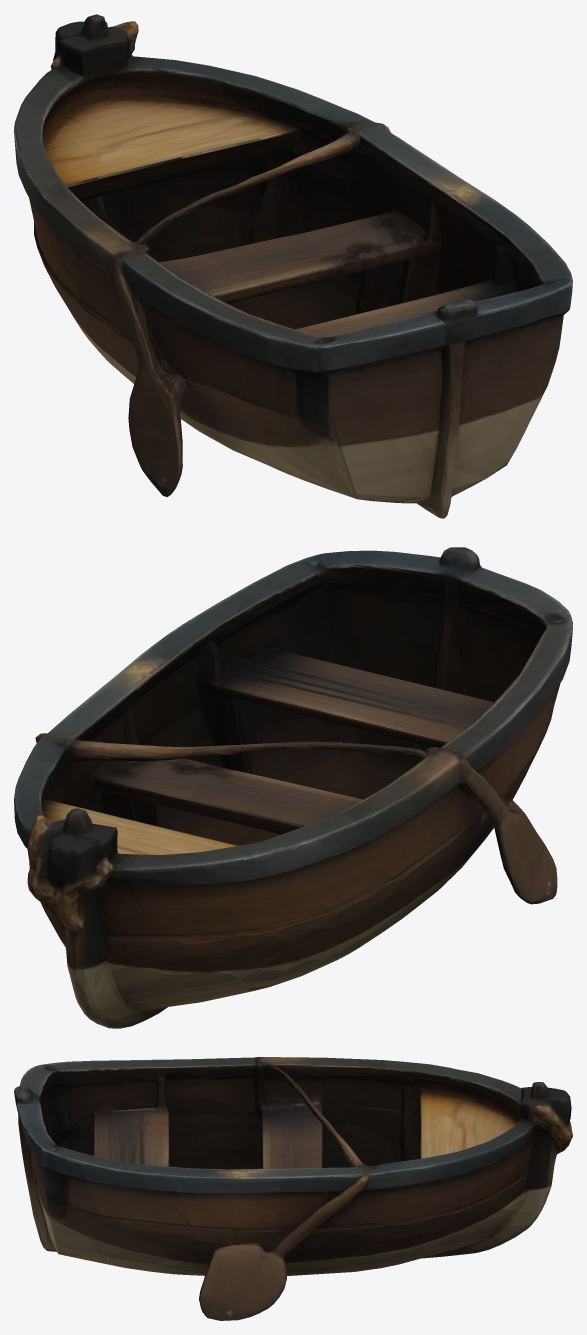
3 views of the same model, one above another, from view 1: azimuth 30°, elevation 25°; view 2: azimuth 150°, elevation 25°; view 3: azimuth 270°, elevation 25° (orthographic). The views are drawn at different scales.
Parts seen in each view (by area): view 1: world; view 2: world; view 3: world.
Boxes of the visible parts, x1,y1,x2,y2 form: world: (14, 14, 572, 518); world: (14, 547, 572, 1028); world: (14, 1057, 572, 1320).
Size of the model in its own units: 0.5855 by 0.3498 by 0.9993.
Materials: 1 (1 with a texture image).
